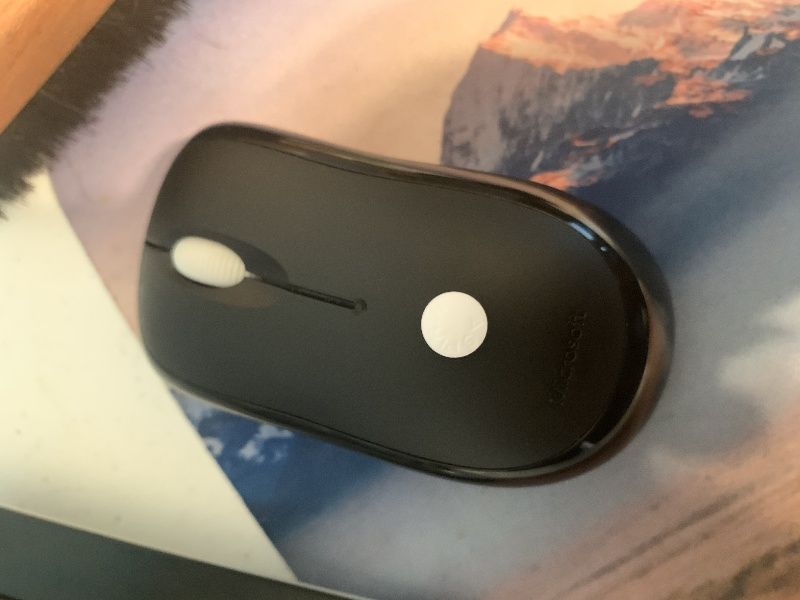Aspirin: (416, 289, 491, 361)
